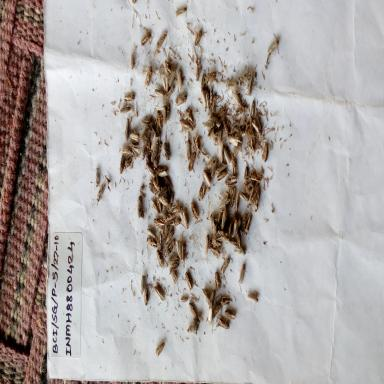pbw: (185, 317, 202, 337), (154, 281, 165, 311), (95, 179, 106, 209), (174, 5, 190, 24), (235, 263, 247, 288), (143, 159, 157, 180), (156, 29, 168, 53), (183, 270, 195, 294), (122, 116, 134, 140), (144, 62, 155, 88), (238, 68, 252, 88), (228, 181, 238, 209), (152, 338, 166, 358), (174, 90, 188, 110), (167, 257, 180, 278), (147, 197, 161, 216), (140, 27, 151, 51), (179, 210, 191, 232), (164, 236, 176, 258), (246, 70, 257, 94), (219, 258, 231, 280), (134, 194, 144, 220), (208, 110, 221, 130), (219, 225, 232, 245), (207, 244, 223, 260), (186, 297, 197, 320), (216, 316, 230, 334), (204, 68, 218, 86), (251, 115, 263, 136), (216, 101, 228, 122), (216, 168, 230, 186), (244, 212, 254, 237), (260, 142, 271, 164), (192, 57, 202, 81), (184, 102, 194, 126), (188, 152, 198, 176), (201, 230, 210, 256), (177, 290, 190, 308), (225, 172, 240, 187), (164, 54, 174, 76), (191, 200, 201, 222), (162, 141, 172, 163), (150, 142, 160, 164), (201, 168, 212, 188), (196, 181, 207, 201), (137, 272, 146, 296), (235, 99, 247, 117), (253, 184, 261, 211), (237, 120, 249, 138), (140, 126, 152, 144), (247, 292, 261, 307), (245, 138, 260, 152), (184, 140, 192, 166), (143, 283, 151, 309), (129, 141, 142, 157), (194, 28, 204, 48), (219, 209, 227, 234), (175, 238, 183, 263), (154, 111, 164, 131), (206, 288, 216, 308), (119, 144, 133, 158), (220, 293, 233, 308), (193, 132, 201, 156), (176, 68, 184, 92), (223, 143, 231, 167), (199, 87, 207, 111), (152, 84, 164, 100), (154, 249, 164, 268), (165, 227, 175, 246), (231, 88, 241, 107), (209, 213, 218, 234), (212, 270, 221, 291), (143, 234, 156, 248), (153, 217, 166, 231), (249, 172, 262, 186), (224, 307, 237, 321), (215, 161, 228, 175), (248, 98, 257, 118), (156, 184, 168, 199), (124, 152, 134, 170), (201, 286, 211, 304), (180, 119, 192, 134), (118, 154, 126, 176), (92, 167, 100, 189), (221, 118, 230, 137), (234, 244, 246, 258), (217, 142, 224, 166), (150, 132, 158, 153), (181, 240, 188, 264), (202, 119, 214, 133), (164, 174, 173, 192), (205, 308, 213, 328), (168, 69, 176, 89), (161, 76, 169, 96), (206, 126, 218, 139), (168, 216, 182, 227), (151, 178, 162, 192), (219, 194, 230, 208), (141, 138, 148, 160), (145, 224, 156, 238), (210, 161, 218, 180), (228, 77, 238, 92), (172, 200, 182, 215), (232, 141, 242, 156), (242, 164, 249, 185), (235, 228, 242, 249), (231, 217, 238, 238), (212, 300, 220, 318), (232, 156, 240, 174), (140, 114, 152, 126), (228, 134, 240, 146), (211, 91, 218, 111), (164, 86, 174, 100), (157, 231, 163, 254), (165, 101, 173, 118), (123, 92, 135, 103), (234, 191, 240, 213), (158, 195, 169, 207), (130, 129, 140, 142), (206, 156, 216, 169), (163, 213, 176, 223), (129, 52, 137, 68), (245, 179, 254, 193), (204, 90, 210, 111), (119, 106, 133, 115), (166, 256, 178, 266), (227, 219, 233, 238), (168, 191, 174, 210), (241, 212, 247, 231), (158, 167, 168, 178), (216, 128, 222, 146), (171, 269, 178, 284), (240, 188, 248, 201), (200, 71, 206, 87), (210, 86, 214, 106), (229, 127, 240, 134)
